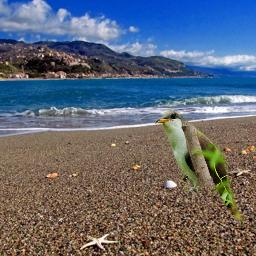Cuckoo: (152, 110, 249, 226)
